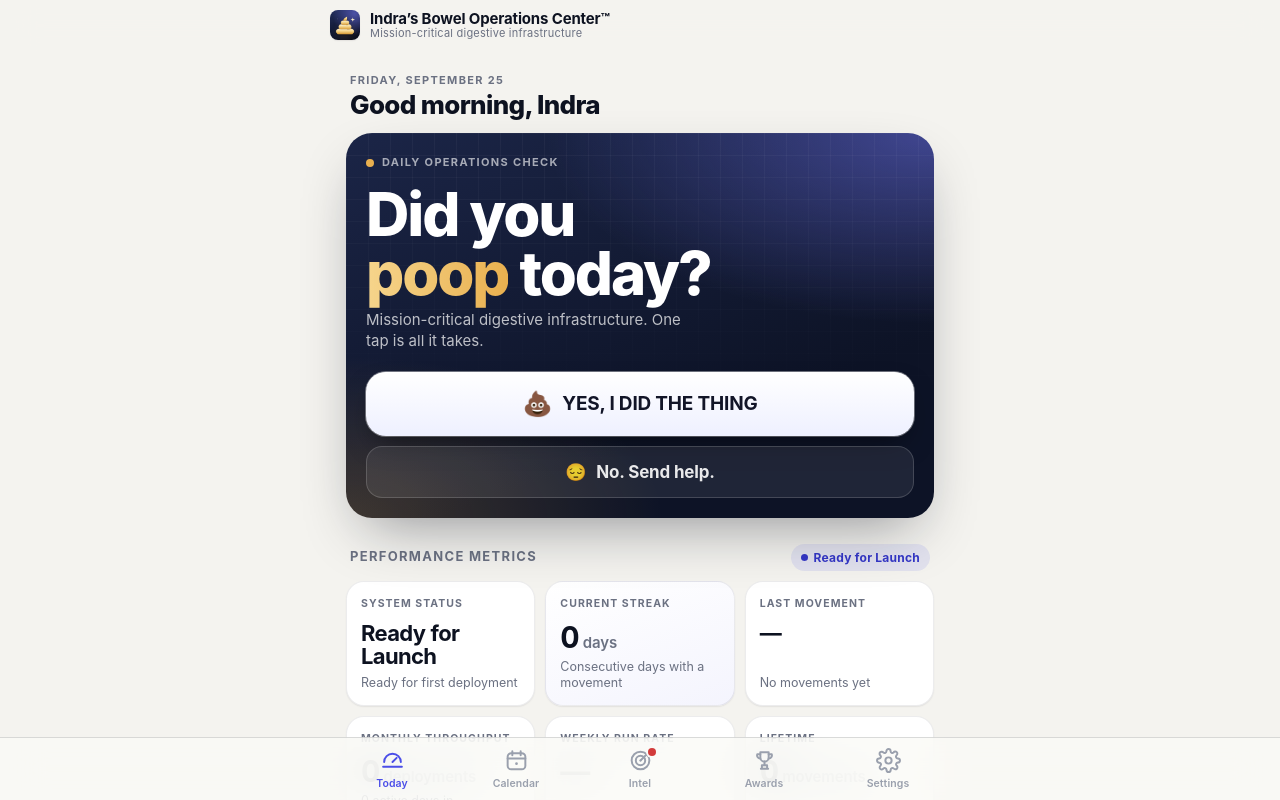
Test case: Calendar › adds a forgotten movement to a past day
Expected: the heading "Did you poop today?" is shown, [366,178,711,309]
Click the button "Calendar". click: [516, 769]
box: [454,744,578,794]
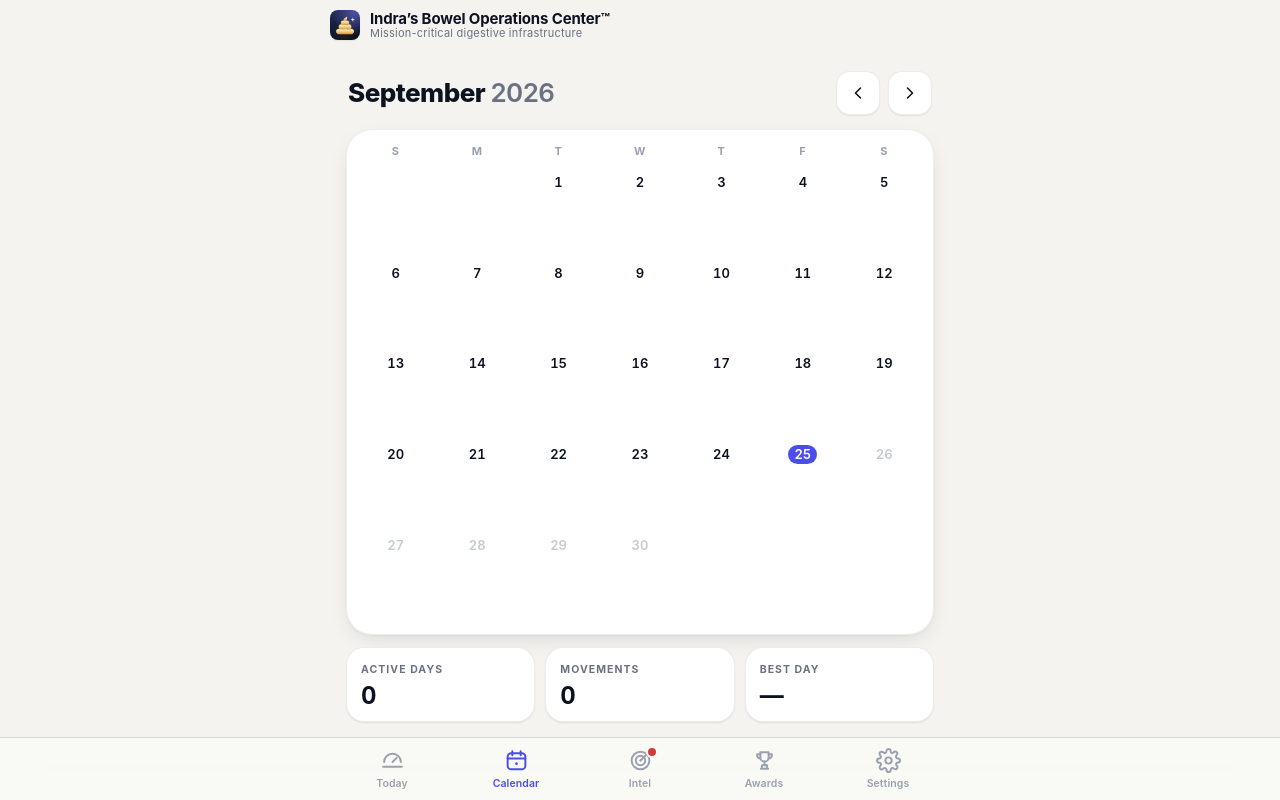
Click the cell named "Sep 10, 2026: no movements". click: [721, 304]
box: [683,261,760,347]
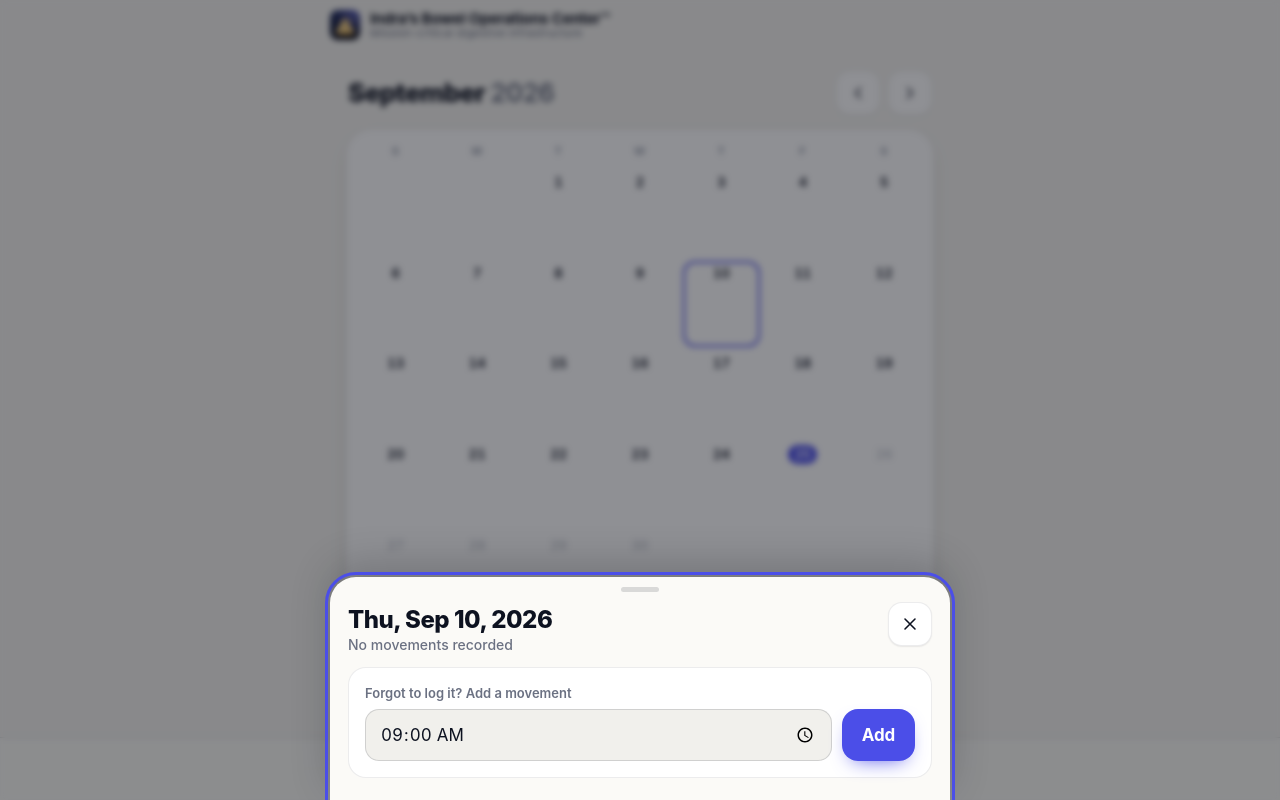
Replace the text in the time field labelled "Forgot to log it? Add a movement" with "07:30". click: [598, 735]
box: [365,709,832,761]
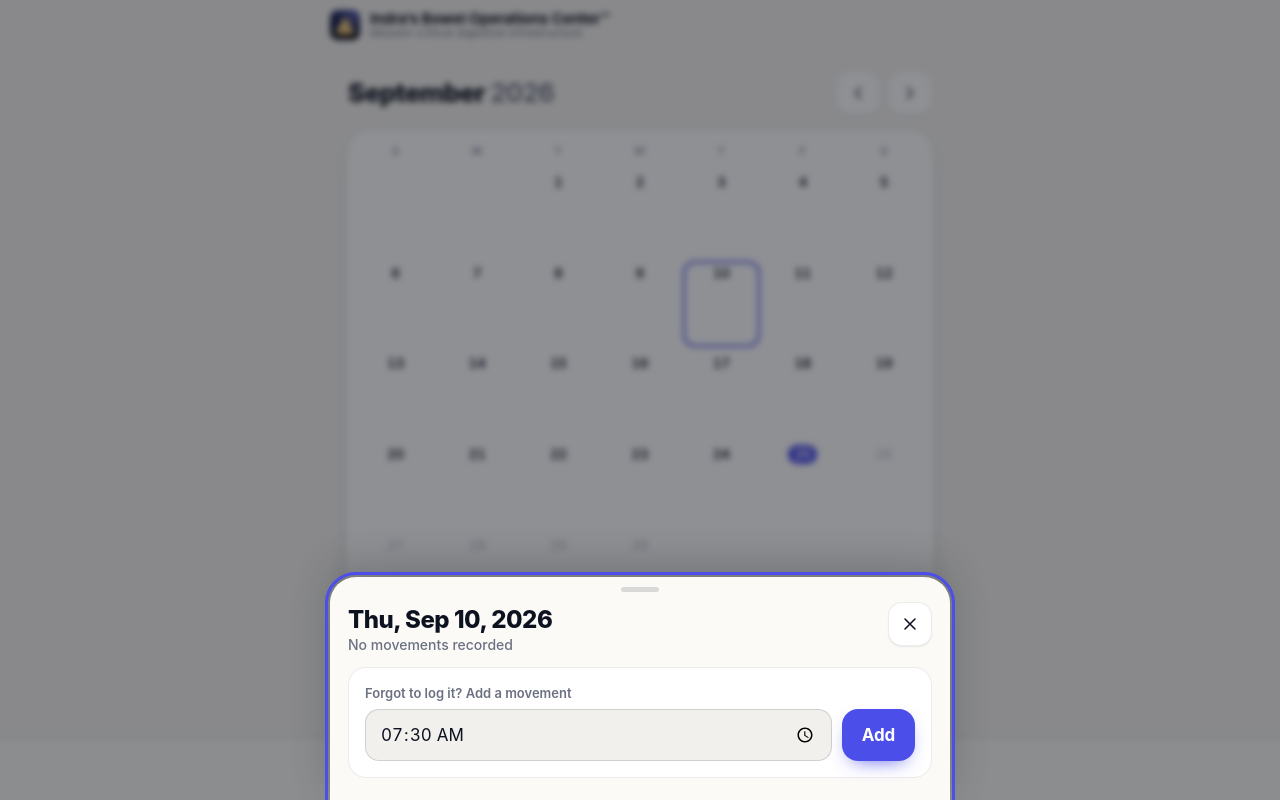
Click the button "Add". click: [878, 735]
box: [842,709,915,761]
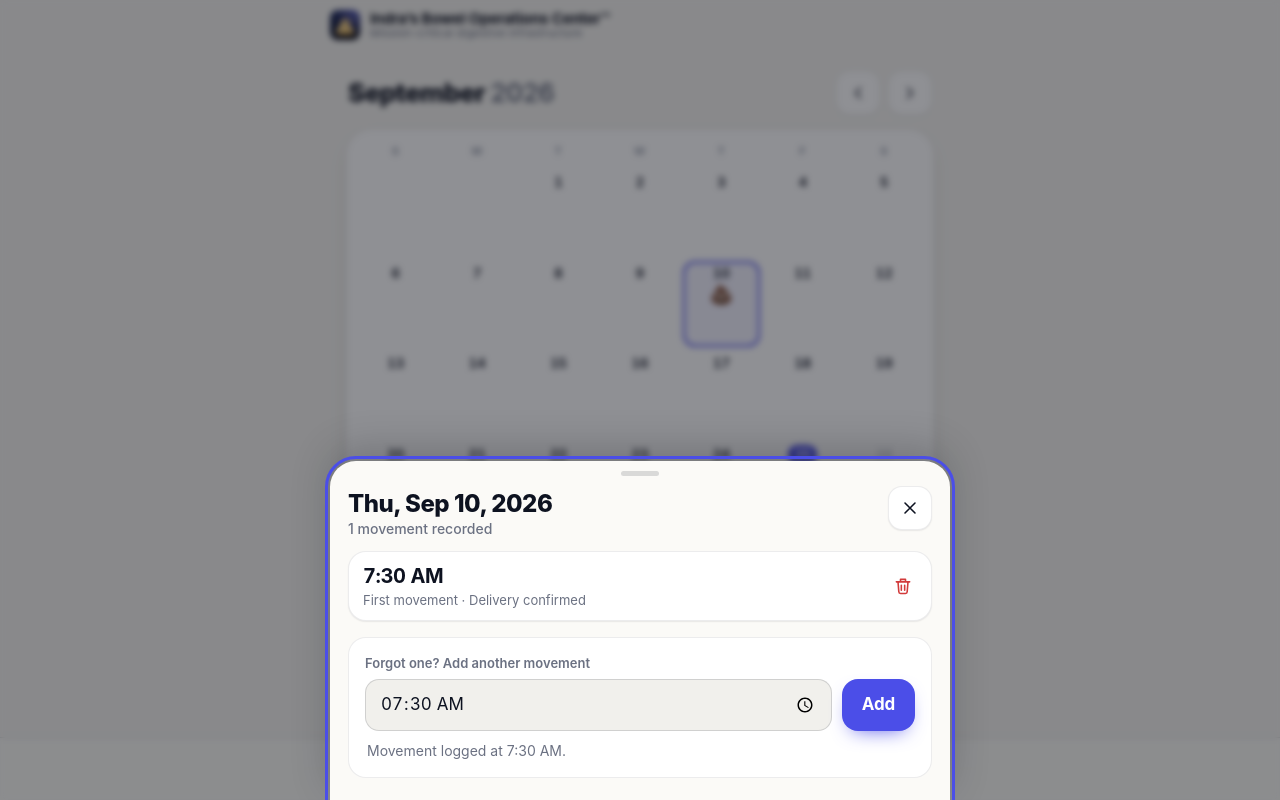
Now the text "7:30 AM" is shown, box [363,564,443,588]
